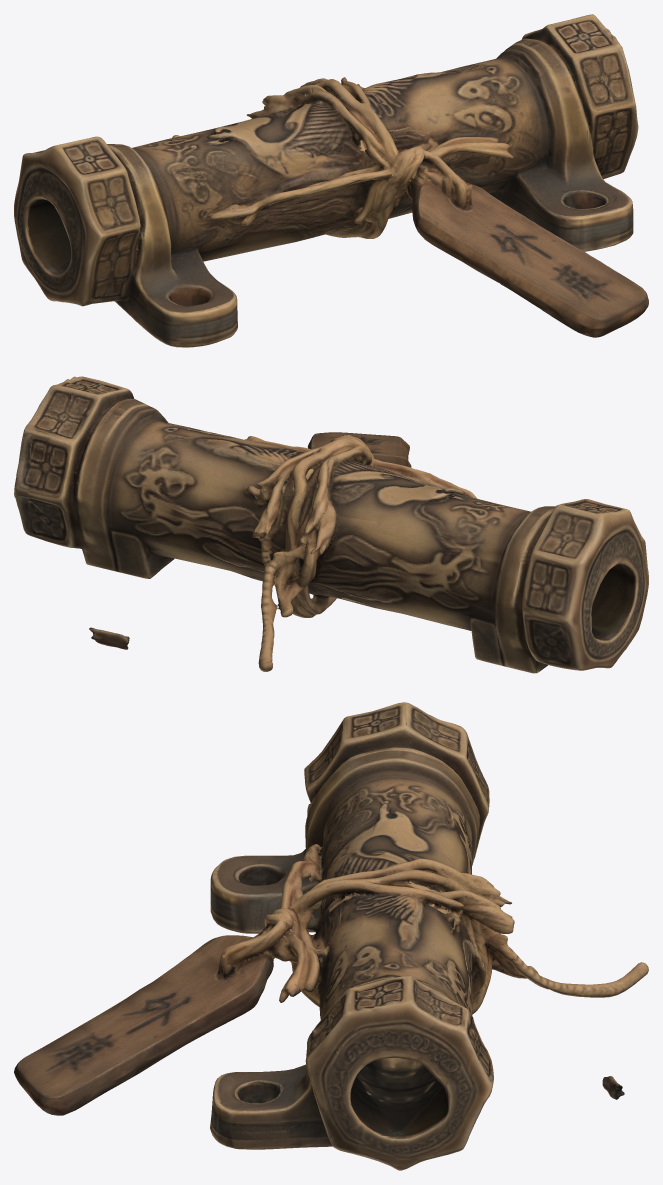
File: Meshy_AI_Dragon_Crane_Scroll_T_0822064149_texture.fbx
The picture shows the model from 3 angles, top to bottom: view 1: azimuth 30°, elevation 25°; view 2: azimuth 150°, elevation 25°; view 3: azimuth 270°, elevation 25°; orthographic projection. The views are drawn at different scales.
Parts seen in each view (by area): view 1: output_unwrapped; view 2: output_unwrapped; view 3: output_unwrapped.
Boxes of the visible parts, bbox=[...] form: output_unwrapped: bbox=[14, 14, 648, 347]; output_unwrapped: bbox=[14, 376, 648, 673]; output_unwrapped: bbox=[14, 702, 648, 1170].
Size of the model in its own units: 200 by 54.53 by 175.
1 material, 1 textured.
